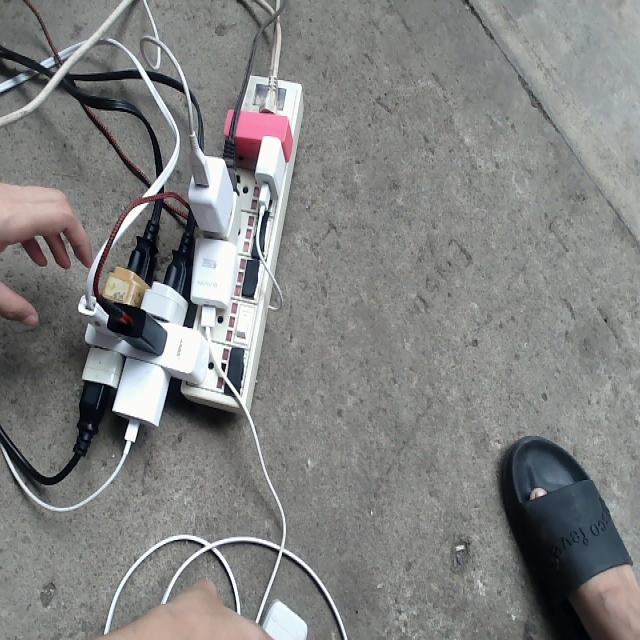-: (78, 75, 303, 428)
